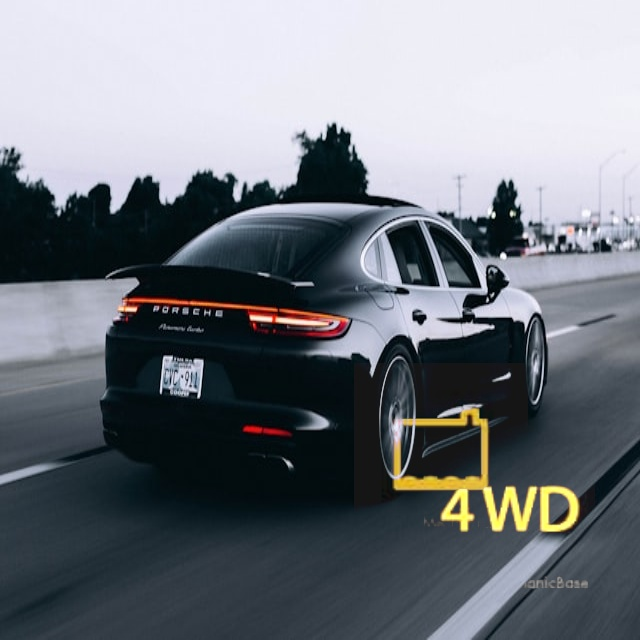symbol: (354, 363, 528, 537), (423, 425, 595, 597)
